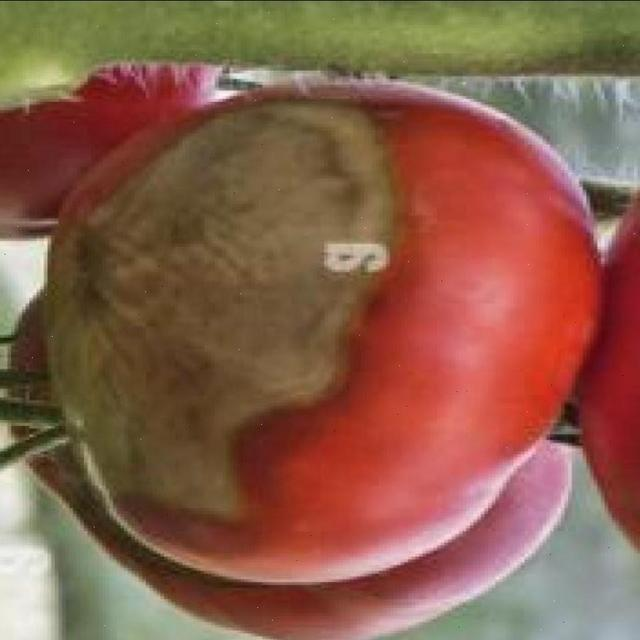Blossom End Rot Fruit: (37, 70, 280, 352)
